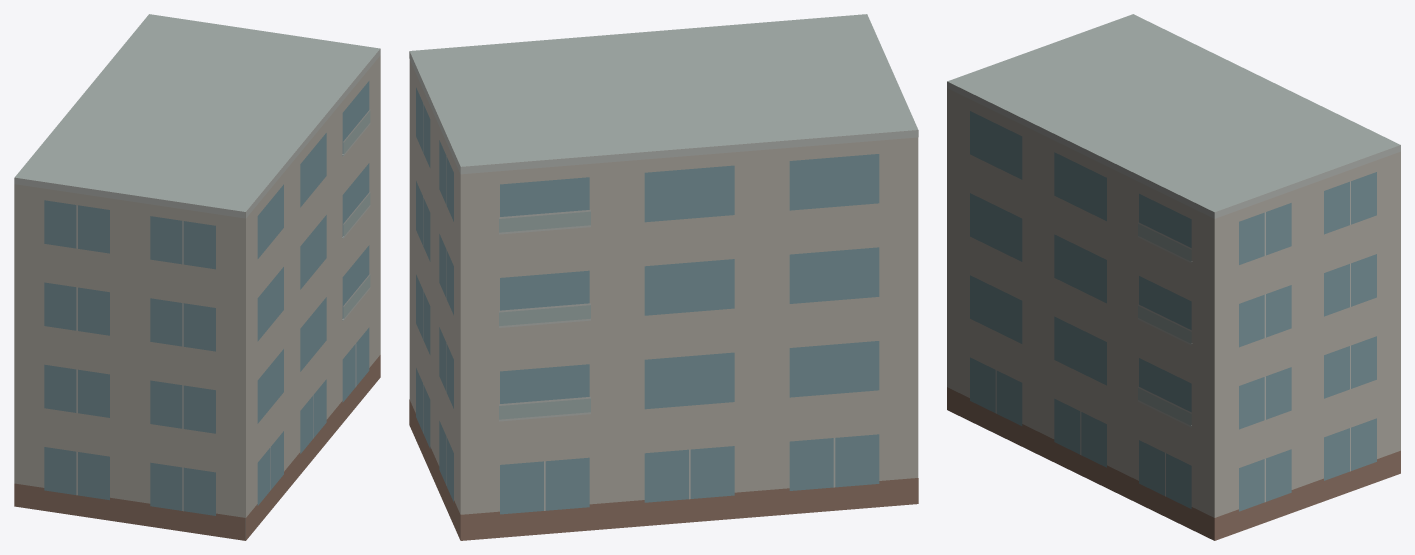
Rendered from survey-upis-32882469.glb.
The picture shows the model from 3 angles, left to right: view 1: azimuth 30°, elevation 25°; view 2: azimuth 150°, elevation 25°; view 3: azimuth 270°, elevation 25°; orthographic projection. The views are drawn at different scales.
Parts seen in each view (by area): view 1: survey-upis-32882469.tmp; view 2: survey-upis-32882469.tmp; view 3: survey-upis-32882469.tmp.
Part boxes in pixels (x1,y1,x2,y2): survey-upis-32882469.tmp: [14, 14, 380, 540]; survey-upis-32882469.tmp: [409, 14, 918, 540]; survey-upis-32882469.tmp: [947, 14, 1400, 540].
Size of the model in its own units: 15.8 by 12.2 by 15.28.
